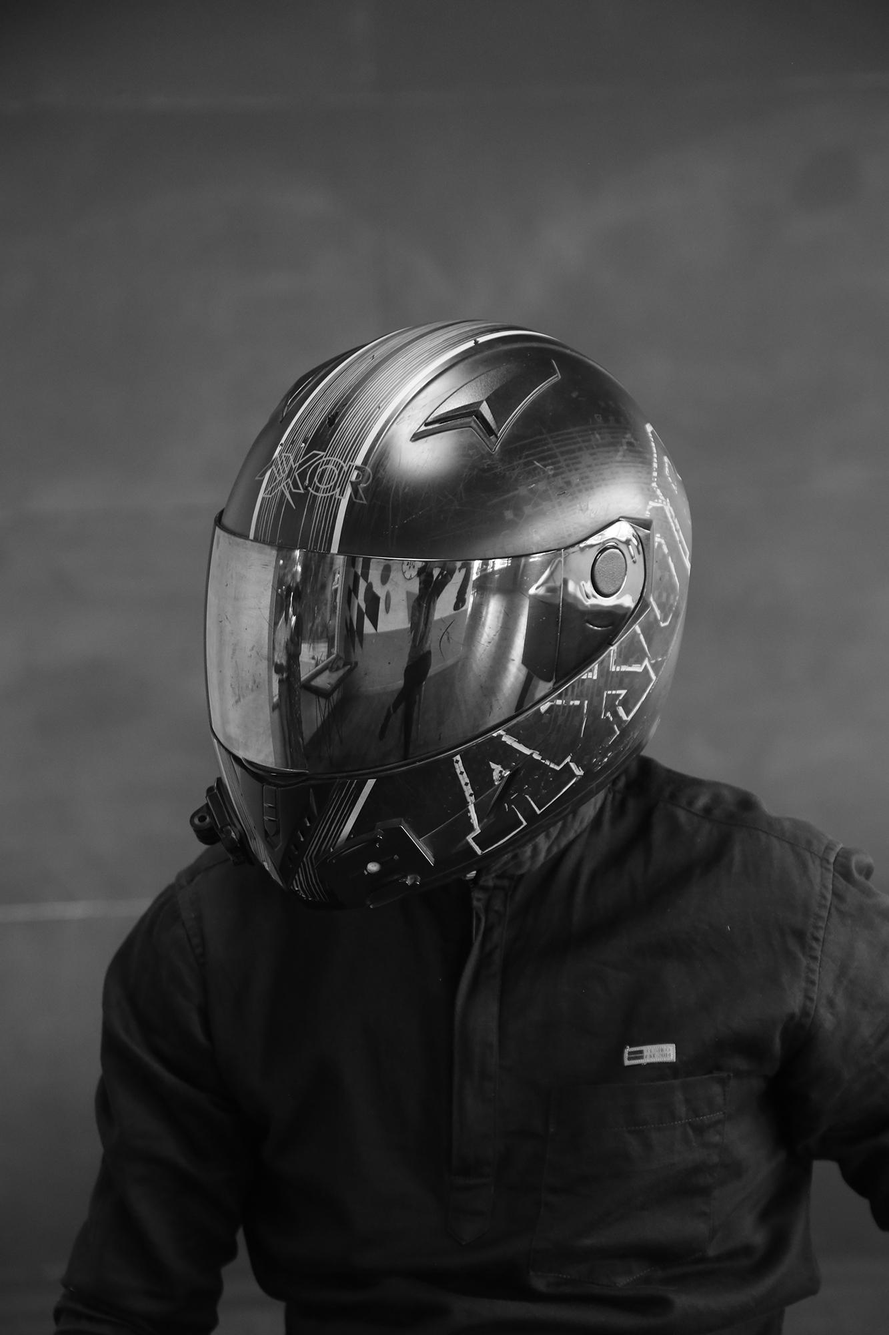helmet: (187, 314, 696, 918)
